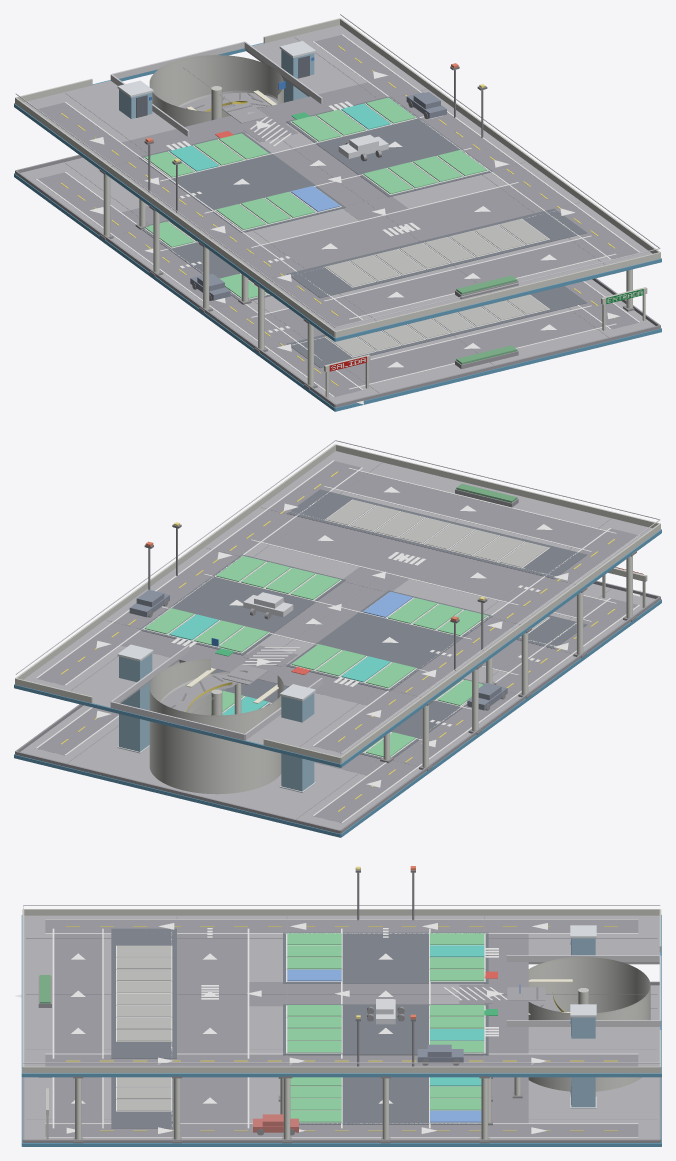
Rendered from parking-garage.glb.
The picture shows the model from 3 angles, top to bottom: view 1: azimuth 30°, elevation 25°; view 2: azimuth 150°, elevation 25°; view 3: azimuth 270°, elevation 25°; orthographic projection.
Parts seen in each view (by area): view 1: LEVEL-2, LEVEL-1, deco-16, deco-14, deco-13, deco-18, deco-7, deco-11, deco-380, ZONE-L2-A, deco-17, ZONE-L2-B (+52 smaller); view 2: LEVEL-2, LEVEL-1, deco-380, deco-16, deco-13, deco-14, deco-18, deco-7, ZONE-L2-A, ZONE-L2-B, deco-17, deco-141 (+56 smaller); view 3: LEVEL-2, LEVEL-1, deco-16, deco-14, deco-380, deco-13, deco-18, deco-6, ZONE-L2-A, deco-350, deco-349, ZONE-L2-B (+70 smaller).
Boxes of the visible parts, box(x1,y1,x2,y2) form: LEVEL-2: box(100, 81, 652, 330); LEVEL-1: box(20, 157, 655, 403); deco-16: box(252, 185, 553, 272); deco-14: box(38, 102, 361, 326); deco-13: box(314, 35, 638, 259); deco-18: box(331, 234, 620, 319); deco-7: box(38, 172, 362, 396); deco-11: box(316, 304, 602, 390); deco-380: box(149, 57, 283, 126); ZONE-L2-A: box(139, 132, 345, 232); deco-17: box(101, 77, 408, 162); ZONE-L2-B: box(286, 96, 492, 197); LEVEL-2: box(94, 451, 652, 705); LEVEL-1: box(20, 583, 655, 829); deco-380: box(149, 660, 283, 794); deco-16: box(262, 514, 553, 604); deco-13: box(37, 461, 361, 685); deco-14: box(314, 528, 637, 752); deco-18: box(318, 466, 621, 553); deco-7: box(313, 598, 637, 822); ZONE-L2-A: box(286, 590, 492, 691); ZONE-L2-B: box(139, 554, 345, 655); deco-17: box(121, 631, 408, 710); deco-141: box(287, 489, 586, 578); LEVEL-2: box(24, 915, 506, 1066); LEVEL-1: box(24, 985, 659, 1139); deco-16: box(177, 932, 247, 1058); deco-14: box(45, 920, 638, 932); deco-380: box(528, 959, 650, 1091); deco-13: box(45, 1054, 638, 1066); deco-18: box(53, 924, 102, 1062); deco-6: box(45, 1124, 638, 1137); ZONE-L2-A: box(283, 932, 488, 983); deco-350: box(23, 1066, 660, 1073); deco-349: box(24, 909, 660, 915); ZONE-L2-B: box(283, 1004, 488, 1055).
Bounding box in the file's own units: 34.35 × 12.69 × 58.99.
Materials: 38 (2 with a texture image).
